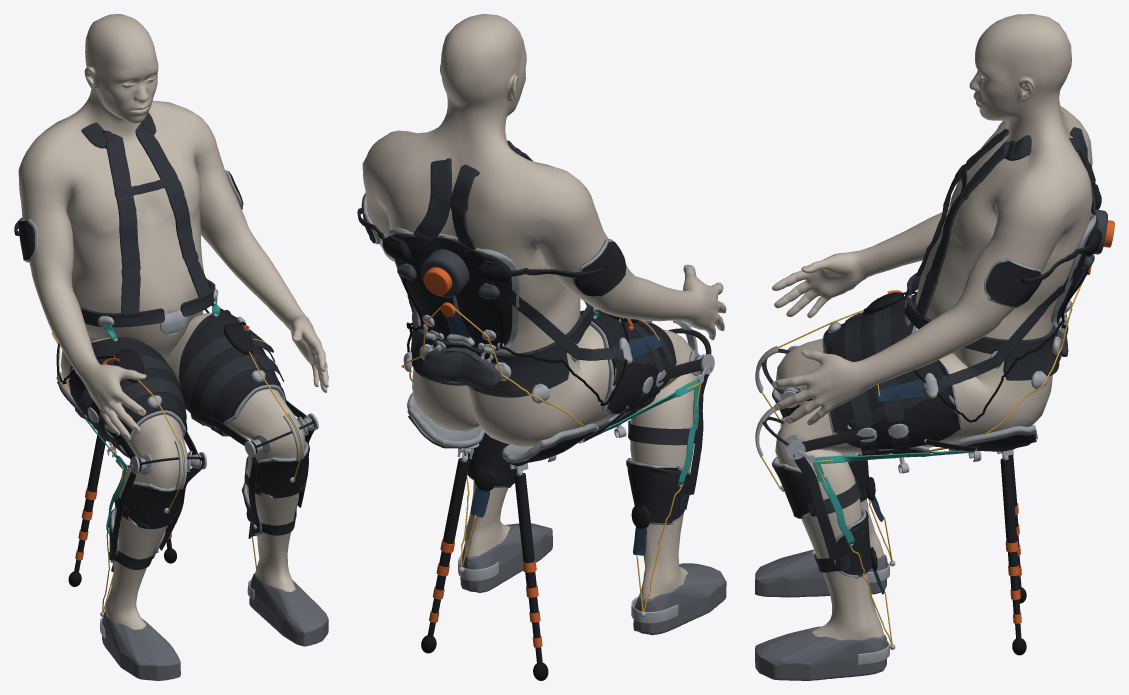
File: sitka_chair.glb
The picture shows the model from 3 angles, left to right: view 1: azimuth 30°, elevation 25°; view 2: azimuth 150°, elevation 25°; view 3: azimuth 270°, elevation 25°; orthographic projection. The views are drawn at different scales.
Parts seen in each view (by area): view 1: body_chair, thigh_shell_l, harness_r, shoe_l, shoe_r, thigh_shell_r, harness_l, ptb_shell_r, ptb_shell_l, hip_belt, thigh_strap1_l, thigh_strap0_l (+10 smaller); view 2: body_chair, back_panel, hip_belt, shoe_r, thigh_shell_r, shoe_l, calf_cuff_r, p1_battery, crazycreek_r, harness_l, m5_armcuff_r, harness_r (+17 smaller); view 3: body_chair, shoe_l, thigh_shell_l, shoe_r, hip_belt, harness_l, crazycreek_l, thigh_shell_r, m5_armcuff_l, harness_r, hamstring_band_l, calf_cuff_l (+14 smaller).
Part boxes in pixels (box(x1,y1,x2,y2)): body_chair: box(18, 14, 328, 629); thigh_shell_l: box(179, 310, 285, 422); harness_r: box(81, 122, 140, 317); shoe_l: box(249, 573, 328, 646); shoe_r: box(102, 610, 180, 680); thigh_shell_r: box(69, 337, 187, 445); harness_l: box(135, 112, 212, 301); ptb_shell_r: box(125, 481, 185, 528); ptb_shell_l: box(252, 442, 309, 498); hip_belt: box(80, 278, 215, 327); thigh_strap1_l: box(200, 355, 283, 436); thigh_strap0_l: box(180, 334, 275, 425); body_chair: box(362, 14, 726, 599); back_panel: box(393, 233, 512, 351); hip_belt: box(410, 301, 593, 397); shoe_r: box(633, 563, 726, 635); thigh_shell_r: box(580, 310, 676, 413); shoe_l: box(460, 523, 552, 593); calf_cuff_r: box(626, 460, 690, 523); p1_battery: box(423, 347, 501, 388); crazycreek_r: box(512, 289, 668, 368); harness_l: box(413, 158, 452, 243); m5_armcuff_r: box(574, 241, 626, 296); harness_r: box(450, 140, 532, 251); body_chair: box(772, 14, 1092, 640); shoe_l: box(755, 626, 887, 680); thigh_shell_l: box(830, 360, 960, 448); shoe_r: box(755, 549, 887, 597); hip_belt: box(904, 273, 1059, 380); harness_l: box(913, 135, 1096, 321); crazycreek_l: box(847, 266, 1077, 430); thigh_shell_r: box(824, 293, 916, 359); m5_armcuff_l: box(986, 261, 1041, 307); harness_r: box(915, 127, 1096, 277); hamstring_band_l: box(812, 450, 974, 544); calf_cuff_l: box(836, 510, 872, 576).
Bounding box in the file's own units: 0.6365 × 1.49 × 0.7948.
